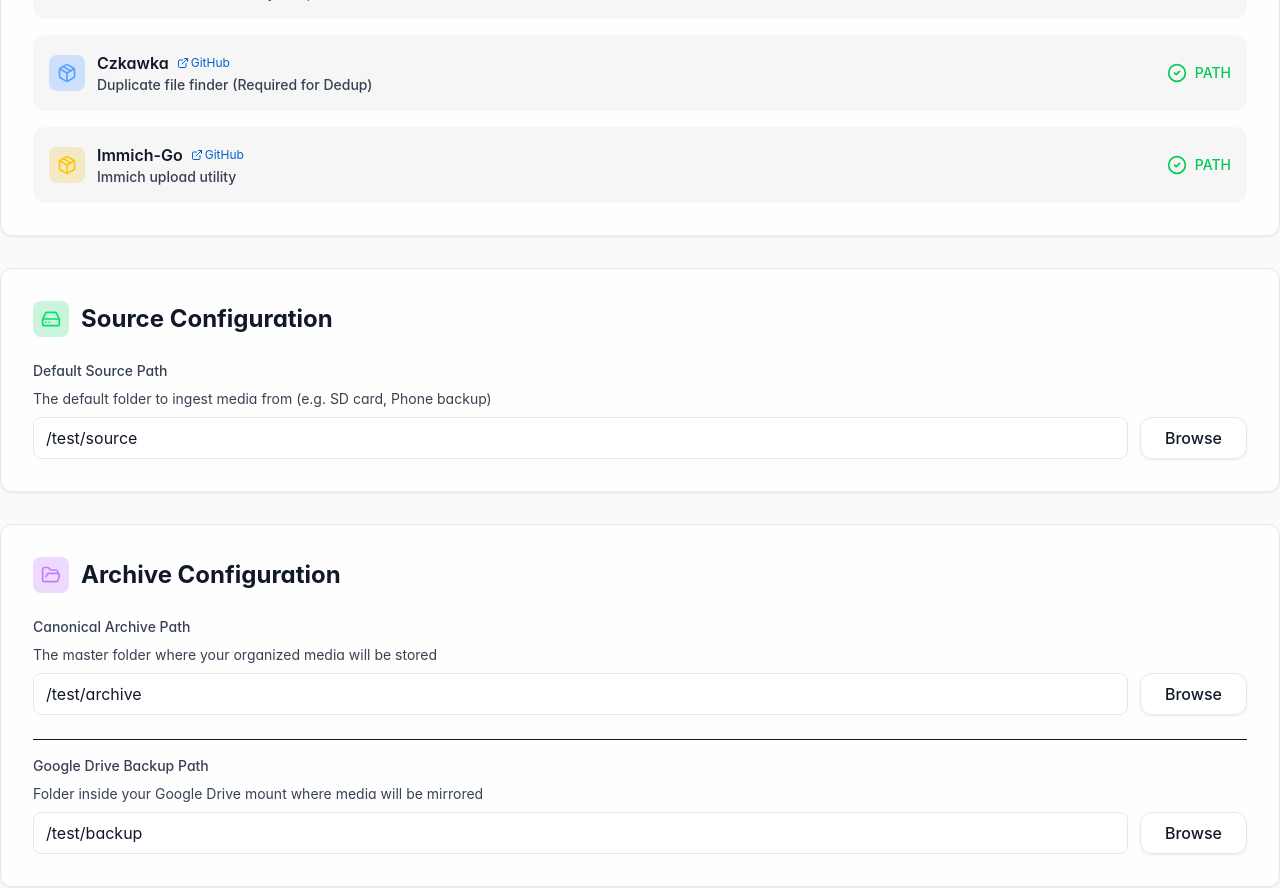
Test: Settings › Form Interactions › allows browsing for default source path
The image size is (1280, 888).
(page scrolled)
Expected: the field showing "/test/source" below "Default Source Path" is shown, [33,417,1128,459]
Click the 1st button "Browse". click: (1193, 438)
box: [1140,417,1247,459]
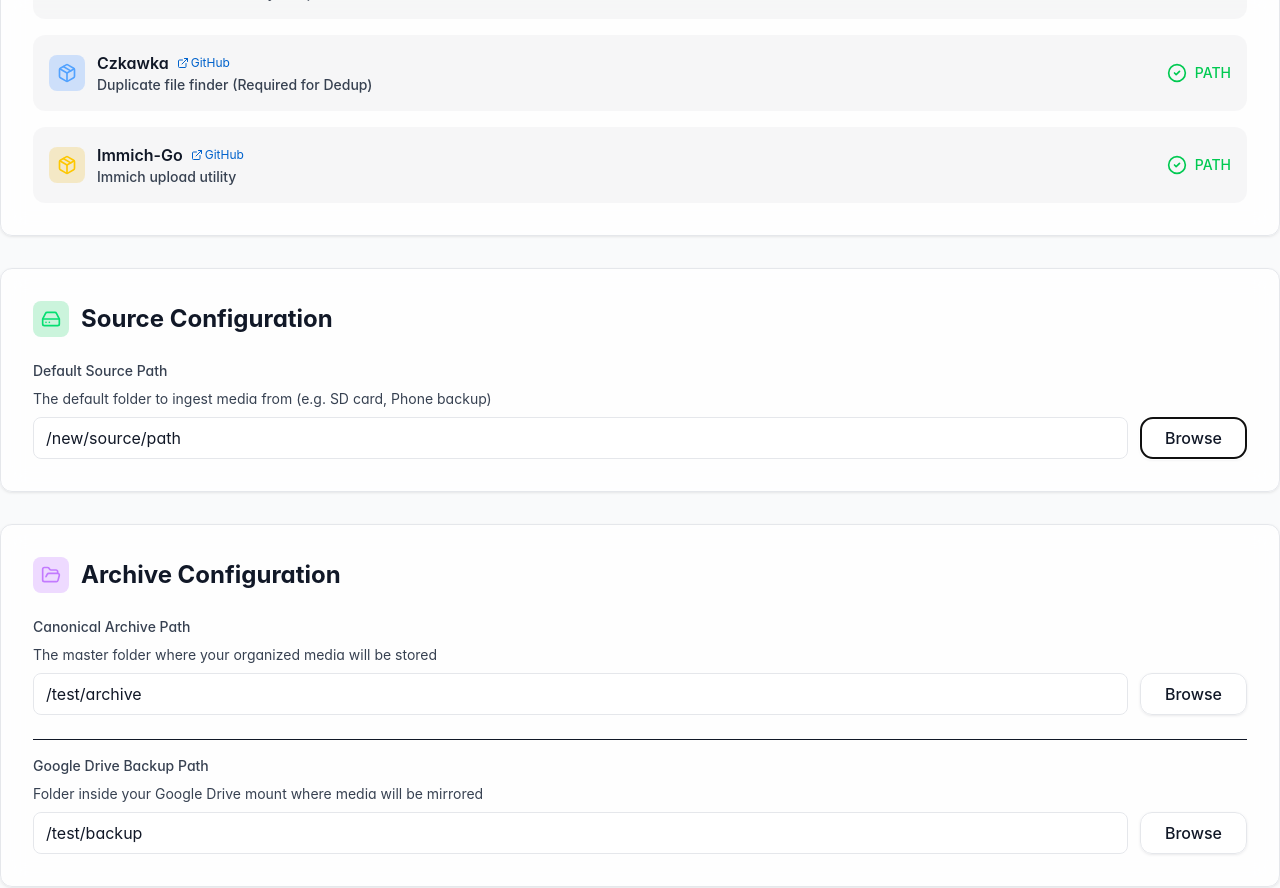
Result: the field showing "/new/source/path" below "Default Source Path" is shown at [33,417,1128,459]
